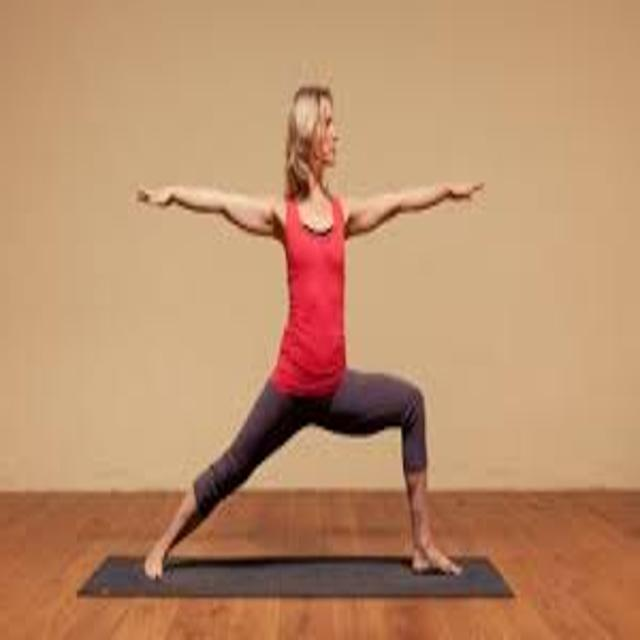Warrior_II: (136, 75, 484, 581)
